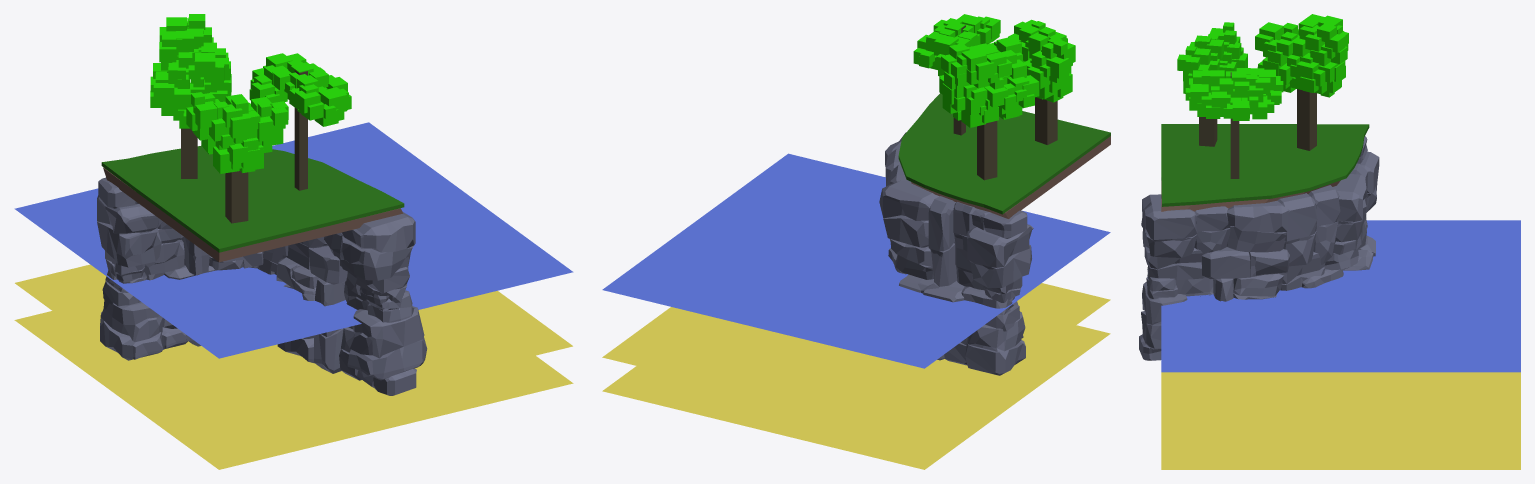
The model's file is 33__tile.fbx.
3 renders of one model, left to right at view 1: azimuth 30°, elevation 25°; view 2: azimuth 150°, elevation 25°; view 3: azimuth 270°, elevation 25°, orthographic. The views are drawn at different scales.
Visible parts, largest first — view 1: 33__tile; view 2: 33__tile; view 3: 33__tile.
Part boxes in pixels (<box>): 33__tile: <box>14,14,573,469</box>; 33__tile: <box>602,14,1110,469</box>; 33__tile: <box>1139,14,1520,469</box>.
Size of the model in its own units: 205 by 197 by 212.
